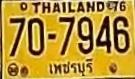0: (27, 17, 43, 55)
4: (95, 15, 110, 52)
6: (112, 15, 128, 52)
7: (58, 16, 74, 54), (9, 16, 24, 56)
9: (77, 16, 92, 53)
PBI: (48, 58, 95, 79)
